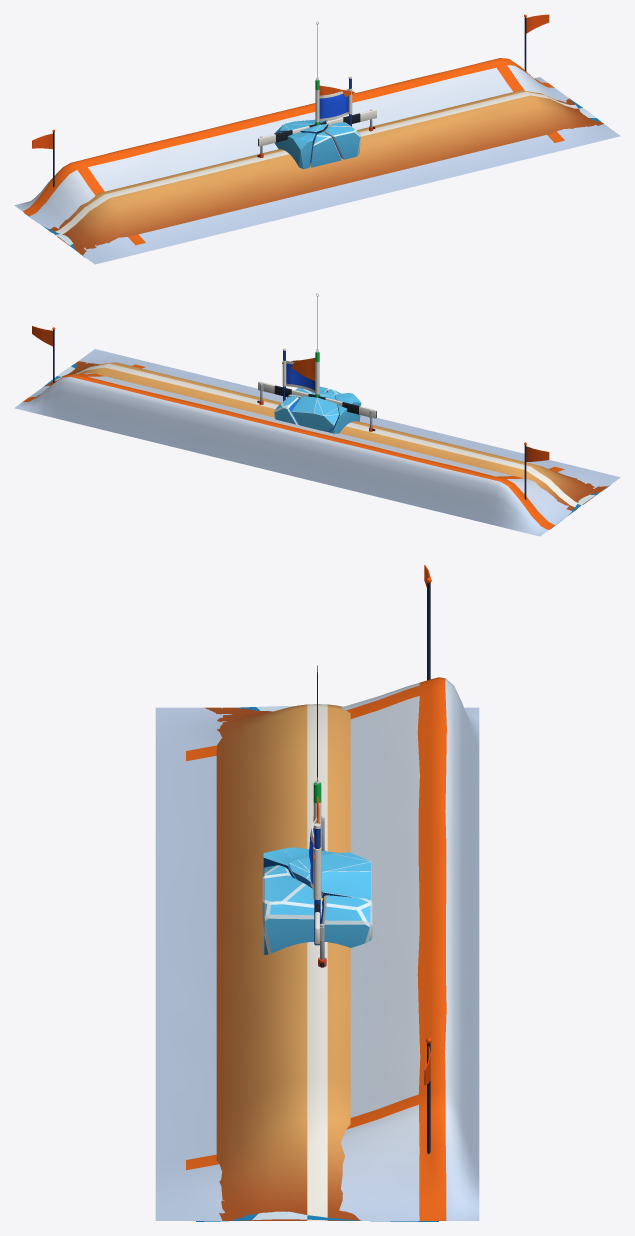
The model's file is course-props.glb.
3 views of the same model, one above another, from view 1: azimuth 30°, elevation 25°; view 2: azimuth 150°, elevation 25°; view 3: azimuth 270°, elevation 25° (orthographic). The views are drawn at different scales.
Parts seen in each view (by area): view 1: Kicker Kicker snow, Roller Roller dirt, Shard_2 Ice crystal, Shard_3 Ice crystal, Hurdle Hurdle bar white, GateFlag GateFlag panel, Shard_0 Ice crystal, Kicker Kicker flag, Shard_4 Ice crystal; view 2: Kicker Kicker snow, Roller Roller dirt, Shard_4 Ice crystal, Hurdle Hurdle bar white, Shard_2 Ice crystal, Kicker Kicker flag, GateFlag GateFlag panel, Shard_1 Ice crystal, BermFlag Berm pennant; view 3: Kicker Kicker snow, Roller Roller dirt, Shard_3 Ice crystal, Shard_4 Ice crystal, Shard_1 Ice crystal, WaveBand Wave water.
Part boxes in pixels (x1,y1,x2,y2): Kicker Kicker snow: [14, 58, 620, 264]; Roller Roller dirt: [48, 90, 603, 255]; Shard_2 Ice crystal: [274, 132, 315, 169]; Shard_3 Ice crystal: [324, 122, 360, 159]; Hurdle Hurdle bar white: [258, 109, 376, 146]; GateFlag GateFlag panel: [319, 88, 348, 121]; Shard_0 Ice crystal: [310, 132, 341, 167]; Kicker Kicker flag: [32, 14, 549, 149]; Shard_4 Ice crystal: [274, 119, 328, 135]; Kicker Kicker snow: [14, 349, 620, 536]; Roller Roller dirt: [44, 361, 607, 511]; Shard_4 Ice crystal: [291, 392, 338, 431]; Hurdle Hurdle bar white: [258, 381, 376, 418]; Shard_2 Ice crystal: [328, 393, 361, 433]; Kicker Kicker flag: [32, 326, 549, 461]; GateFlag GateFlag panel: [286, 360, 315, 392]; Shard_1 Ice crystal: [274, 396, 299, 424]; BermFlag Berm pennant: [282, 358, 315, 380]; Kicker Kicker snow: [155, 677, 479, 1220]; Roller Roller dirt: [204, 704, 359, 1220]; Shard_3 Ice crystal: [262, 875, 322, 954]; Shard_4 Ice crystal: [288, 852, 371, 900]; Shard_1 Ice crystal: [320, 895, 372, 947]; WaveBand Wave water: [196, 706, 438, 1221].
Bounding box in the file's own units: 12 × 3.57 × 3.2.
